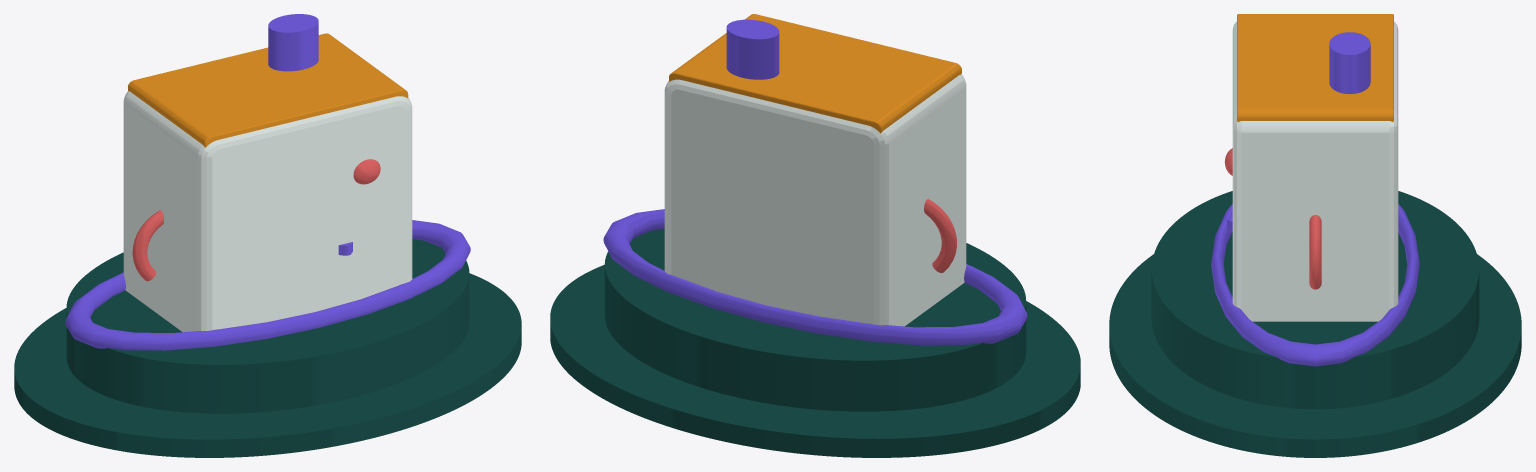
The model's file is 0577_伟大的发明图鉴_伽利略显微镜.glb.
3 views of the same model, side by side, from view 1: azimuth 30°, elevation 25°; view 2: azimuth 150°, elevation 25°; view 3: azimuth 270°, elevation 25° (orthographic). The views are drawn at different scales.
Parts seen in each view (by area): view 1: card_0577; view 2: card_0577; view 3: card_0577.
Part boxes in pixels (x1,y1,x2,y2): card_0577: (14,14,521,457); card_0577: (550,14,1080,457); card_0577: (1109,14,1521,457).
Size of the model in its own units: 1.46 by 1 by 1.11.
